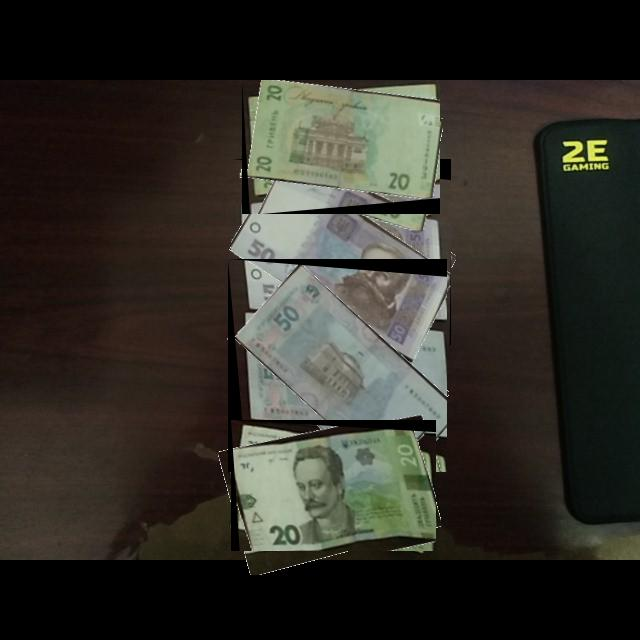20uah: (233, 428, 437, 552), (247, 80, 441, 202)
50uah: (234, 264, 448, 473), (231, 163, 451, 346)
